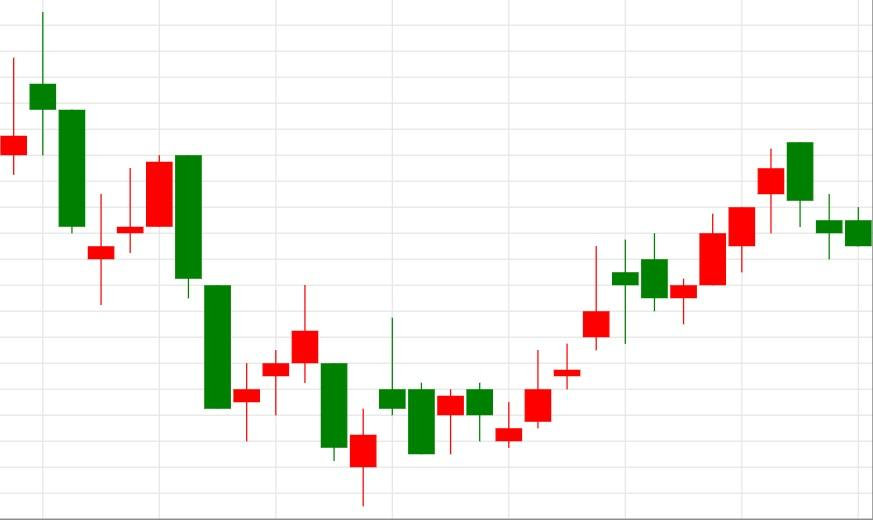bearish_engulfing_fall: (87, 154, 202, 305)
three_white_soldiers_rise: (174, 154, 320, 442)
